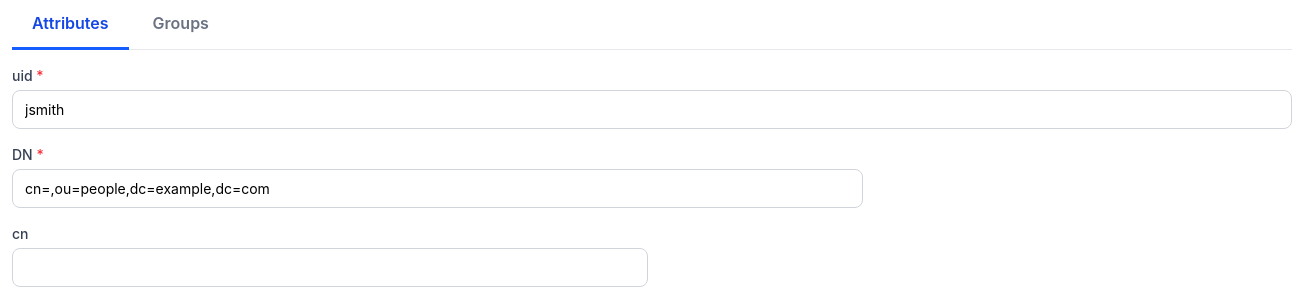
Test: UserForm editable DN (create mode) › RFC 4514-escapes reserved characters in a substituted value
Type "00001+Sanjay Mishra" into the field labelled "cn" at {"x": 330, "y": 268}, box [12,248,648,287]
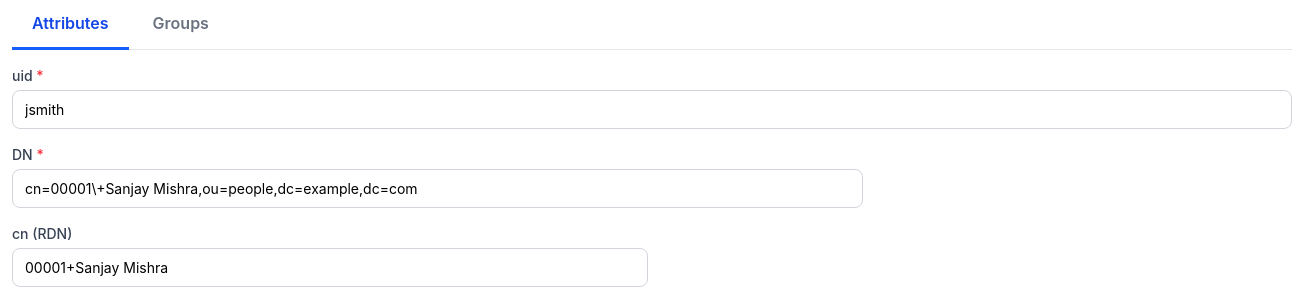
Check: the field labelled "DN *" holds "cn=00001\\+Sanjay Mishra,ou=people,dc=example,dc=com", box [12,169,863,208]
